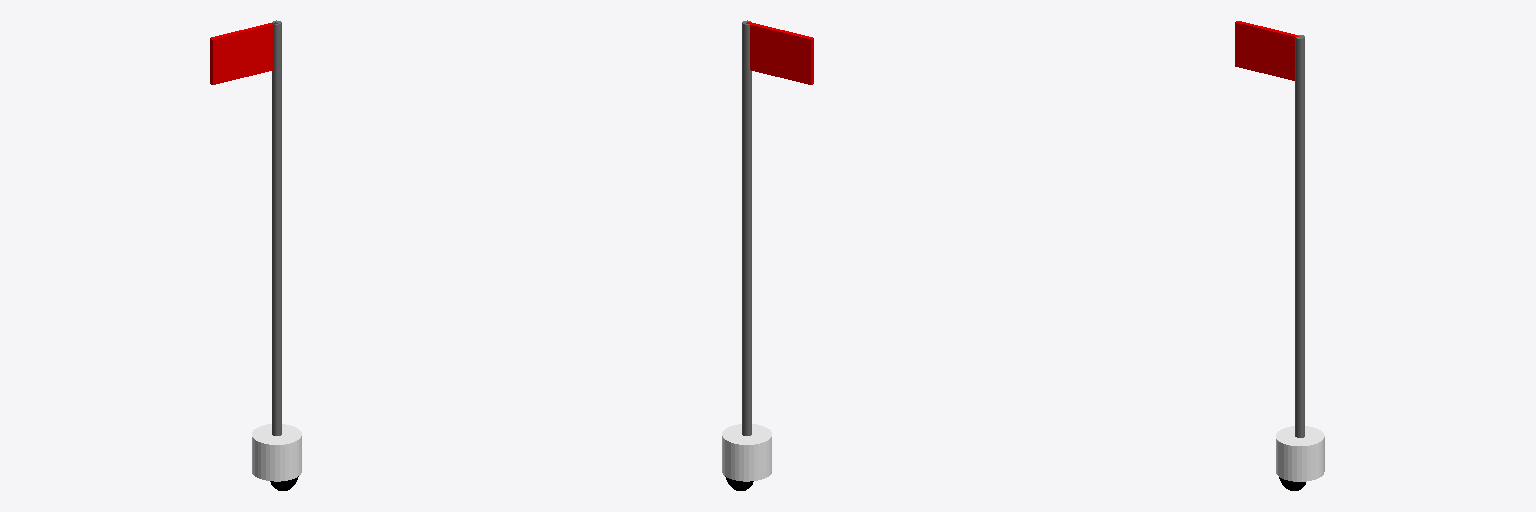
robot.urdf — AMiRo:
<?xml version="1.0"?>
<robot name="AMiRo" xmlns:xacro="http://www.ros.org/wiki/xacro">

<gazebo>
    <plugin name="differential_drive_controller" filename="libgazebo_ros_diff_drive.so">
        <alwaysOn>true</alwaysOn>
        <updateRate>50</updateRate>
        <leftJoint>left_wheel</leftJoint>
        <rightJoint>right_wheel</rightJoint>
        <wheelSeparation>0.069</wheelSeparation> <!-- meter -->
        <wheelDiameter>0.05571</wheelDiameter> <!-- meter -->
        <wheelTorque>1</wheelTorque> <!-- Nm ? -->
        <odometrySource>1</odometrySource> <!-- ? -->
        <commandTopic>cmd_vel</commandTopic>
        <odometryTopic>odom</odometryTopic>
        <odometryFrame>odom</odometryFrame>
        <robotBaseFrame>base_footprint</robotBaseFrame>
        <!--<publishTf>foo</publishTf>--> <!-- Use robot model name as prefix -->
        <!--<robotNamespace>foo</robotNamespace>--> <!-- Use robot model name as namespace -->
        <rosDebugLevel>na</rosDebugLevel>
        <publishWheelTF>false</publishWheelTF>
        <publishWheelJointState>false</publishWheelJointState>
        <legacyMode>true</legacyMode>
        <wheelAcceleration>1</wheelAcceleration> <!-- rad/s^2 -->
        <wheelAcceleration>1</wheelAcceleration> <!-- rad/s^2 -->
    </plugin>
</gazebo>
    
  <material name="blue">
    <color rgba="0 0 .8 1"/>
  </material>

  <material name="black">
    <color rgba="0 0 0 1"/>
  </material>

  <material name="white">
    <color rgba="1 1 1 1"/>
  </material>
  
  <material name="grey">
    <color rgba="0.5 0.5 0.5 1"/>
  </material>
  
  <material name="red">
    <color rgba="1 0 0 1"/>
  </material>

  <material name="green">
    <color rgba="0.26 .77 .17 1"/>
  </material>

  <link name="base_link">
  </link>

  <link name="base">
    <visual>
      <geometry>
        <cylinder length="0.08" radius="0.05"/>
      </geometry>
      <material name="white"/>
    </visual>
    <!--
    http://en.wikipedia.org/wiki/List_of_moment_of_inertia_tensors
            MATLAB:
            m=0.4; r=0.1; h=0.07; 
            ixx = 1/12*m*(3*r^2+h^2)
            iyy = ixx 
            izz = 1/2*m*r^2 
            
    -->
    <inertial>
      <origin xyz="0 0 0" rpy="0 0 0"/>
      <mass value="0.4"/>
      <inertia
        ixx="0.0012" ixy="0.0" ixz="0.0"
        iyy="0.0012" iyz="0.0"
        izz="0.005"/>
    </inertial>    
  </link>

  <joint name="base_link_to_base" type="fixed">
    <parent link="base_link"/>
    <child link="base"/>
    <origin xyz="0 0 0.06"/>
  </joint>

  <link name="right_wheel">
    <visual>
      <geometry>
        <cylinder length="0.01" radius="0.03"/>
      </geometry>
      <origin rpy="1.57075 0 0" xyz="0 0 0"/>
      <material name="black"/>
    </visual>
  </link>
  
  <gazebo reference="right_wheel">
    <mu1>0.2</mu1>
    <mu2>0.2</mu2>
    <material>Gazebo/Black</material>
  </gazebo>

  <joint name="base_to_right_wheel" type="fixed">
    <parent link="base_link"/>
    <child link="right_wheel"/>
    <origin xyz="0 -0.03 0.02"/>
  </joint>

  <link name="left_wheel">
    <visual>
      <geometry>
        <cylinder length="0.01" radius="0.03"/>
      </geometry>
      <origin rpy="1.57075 0 0" xyz="0 0 0"/>
      <material name="black"/>
    </visual>
  </link>
  
  <gazebo reference="left_wheel">
    <mu1>0.2</mu1>
    <mu2>0.2</mu2>
    <material>Gazebo/Black</material>
  </gazebo>

  <joint name="base_to_left_wheel" type="fixed">
    <parent link="base_link"/>
    <child link="left_wheel"/>
    <origin xyz="0 0.03 0.02"/>
  </joint>
  
  <link name="rod">
    <visual>
      <geometry>
        <cylinder length="1.0" radius="0.01"/>
      </geometry>
      <material name="grey"/>
    </visual>
  </link>
  
  <joint name="rod_link_to_base" type="fixed">
    <parent link="base_link"/>
    <child link="rod"/>
    <origin xyz="0 0 0.5"/>
  </joint>
  
  <link name="flag">
    <visual>
      <geometry>
        <box size=".15 .01 .1"/>
      </geometry>
      <material name="red"/>
    </visual>
  </link>
  
  <gazebo reference="flag">
    <material>Gazebo/Red</material>
  </gazebo>

  <joint name="base_link_to_flag" type="fixed">
    <parent link="base_link"/>
    <child link="flag"/>
    <origin xyz="-.075 0 0.95" rpy="0 0 0"/>
  </joint>

</robot>

--- What the picture shows (computed from the rendered views, not written in the file) ---
The picture shows the robot from 3 angles, left to right: view 1: azimuth 30°, elevation 25°; view 2: azimuth 150°, elevation 25°; view 3: azimuth 330°, elevation 25°; orthographic projection.
Robot: AMiRo — 6 links, 5 joints (5 fixed); root link base_link; default pose: all joints at 0.
Links seen in each view (by area): view 1: rod, flag, base; view 2: rod, flag, base; view 3: rod, flag, base.
Link boxes in pixels (box(x1,y1,x2,y2)): rod: box(272, 20, 281, 435); flag: box(210, 22, 277, 84); base: box(252, 424, 301, 481); rod: box(742, 20, 751, 435); flag: box(746, 22, 813, 84); base: box(722, 424, 771, 481); rod: box(1295, 35, 1304, 437); flag: box(1235, 21, 1298, 80); base: box(1276, 426, 1324, 481).
Size in the robot's own frame: 0.2 by 0.1 by 1.01 metres.
Geometry: primitives only (box / cylinder / sphere), no mesh files.
